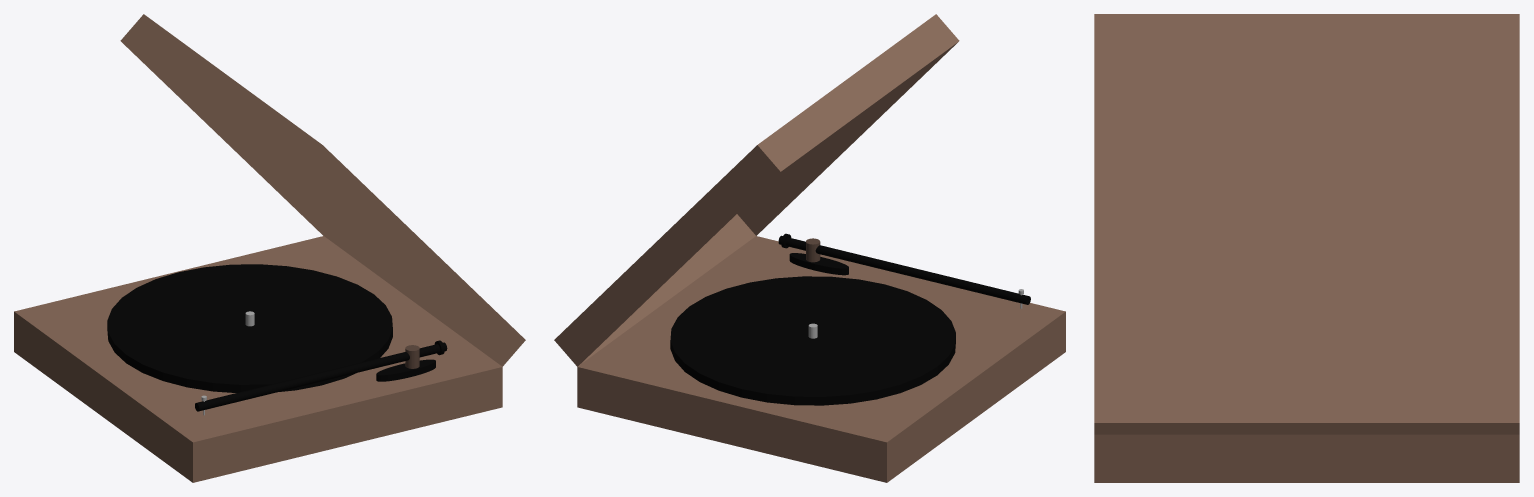
The model's file is recordplay.fbx.
3 views of the same model, side by side, from view 1: azimuth 30°, elevation 25°; view 2: azimuth 150°, elevation 25°; view 3: azimuth 270°, elevation 25° (orthographic). The views are drawn at different scales.
Visible parts, largest first — view 1: Cube, Cylinder.007, Cube.001, Cylinder.002, Cylinder.001; view 2: Cube, Cylinder.007, Cube.001, Cylinder.002, Cylinder.001; view 3: Cube.001, Cube.
Boxes of the visible parts, bbox=[...] form: Cube: bbox=[14, 236, 502, 482]; Cylinder.007: bbox=[107, 264, 392, 392]; Cube.001: bbox=[120, 14, 525, 366]; Cylinder.002: bbox=[195, 342, 447, 411]; Cylinder.001: bbox=[376, 359, 435, 381]; Cube: bbox=[577, 236, 1065, 482]; Cylinder.007: bbox=[670, 276, 955, 405]; Cube.001: bbox=[554, 14, 959, 366]; Cylinder.002: bbox=[778, 235, 1030, 304]; Cylinder.001: bbox=[789, 253, 848, 275]; Cube.001: bbox=[1094, 14, 1519, 434]; Cube: bbox=[1094, 434, 1519, 482].
Bounding box in the file's own units: 215 × 189 × 200.
